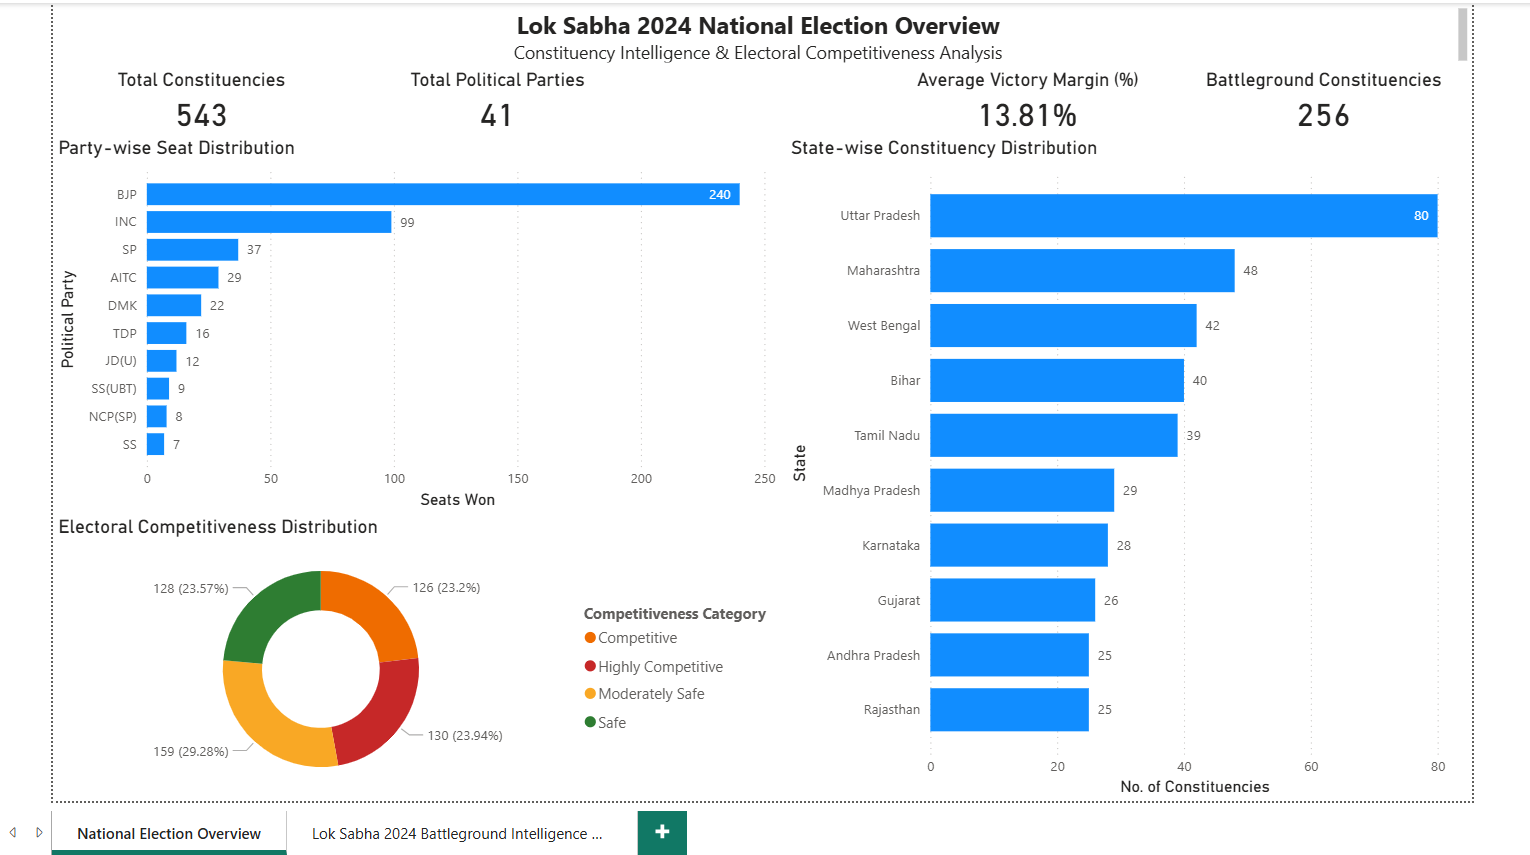

Layout of this report page (visuals, bound fields, positions):
{"tool":"powerbi","page":{"name":"National Election Overview","canvas":[1280,720],"ordinal":0},"visuals":[{"type":"textbox","box":[0,0,1280,58.5],"z":0},{"type":"card","title":"Total Constituencies","fields":{"Values":["CountNonNull(Constituency_Summary (2).Constituency)"]},"box":[0,58.5,267.5,62.2],"z":1000},{"type":"card","title":"Total Political Parties","fields":{"Values":["Count(Constituency_Summary (2).Winning Party)"]},"box":[267.5,58.5,267.5,62.2],"z":2000},{"type":"card","title":"Average Victory Margin (%)","fields":{"Values":["Avg(Constituency_Summary (2).Victory Margin %)"]},"box":[745.1,58.5,267.5,62.2],"z":3000},{"type":"card","title":"Battleground Constituencies","fields":{"Values":["CountNonNull(Constituency_Summary (2).Battleground Flag)"]},"box":[1012.6,58.5,267.5,62.2],"z":4000},{"type":"clusteredBarChart","title":"Party-wise Seat Distribution","fields":{"Category":["Constituency_Summary (2).Winning Party"],"Y":["CountNonNull(Constituency_Summary (2).Constituency)"]},"box":[0,120.6,660.5,340.4],"z":5000},{"type":"donutChart","title":"Electoral Competitiveness Distribution","fields":{"Category":["Constituency_Summary (2).Competitiveness Category"],"Y":["CountNonNull(Constituency_Summary (2).Constituency)"]},"box":[0,461.6,660.5,258.1],"z":6000},{"type":"clusteredBarChart","title":"State-wise Constituency Distribution","fields":{"Y":["CountNonNull(Constituency_Summary (2).Constituency)"],"Category":["Constituency_Summary (2).State"]},"box":[660,120.8,620.2,599.7],"z":7000}]}

Visuals, with their boxes on the page's 1280x720 design canvas (x1, y1, x2, y2). These are canvas units, not pixel positions in the 1530x855 screenshot, which may show the page scaled, cropped or inside an application window:
textbox: detection(0, 0, 1280, 58)
"Total Constituencies" card: detection(0, 58, 268, 121)
"Total Political Parties" card: detection(268, 58, 535, 121)
"Average Victory Margin (%)" card: detection(745, 58, 1013, 121)
"Battleground Constituencies" card: detection(1013, 58, 1280, 121)
"Party-wise Seat Distribution" clusteredBarChart: detection(0, 121, 660, 461)
"Electoral Competitiveness Distribution" donutChart: detection(0, 462, 660, 720)
"State-wise Constituency Distribution" clusteredBarChart: detection(660, 121, 1280, 720)
